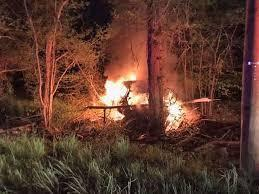fire: (73, 51, 203, 135)
